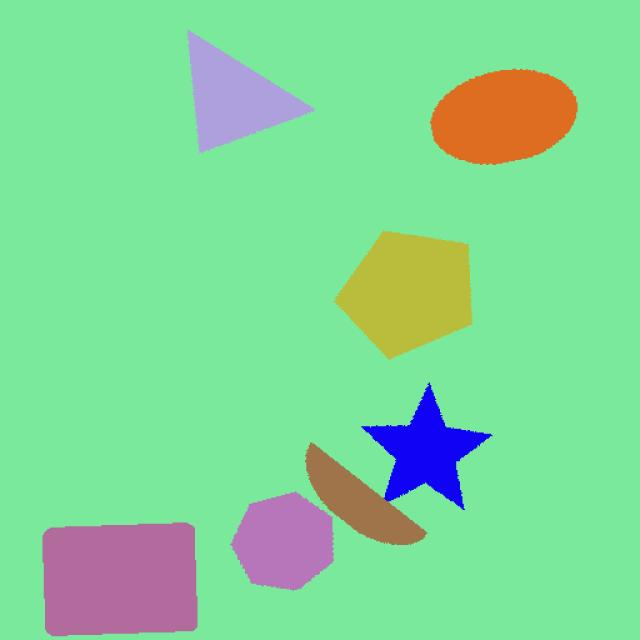Heptagon: (212, 471, 350, 603)
Oval: (404, 70, 613, 184)
Pentagon: (293, 221, 521, 378)
Rectangle: (31, 511, 220, 640)
Semicircle: (300, 433, 443, 562)
Star: (367, 383, 497, 514)
Triangle: (172, 25, 321, 164)
